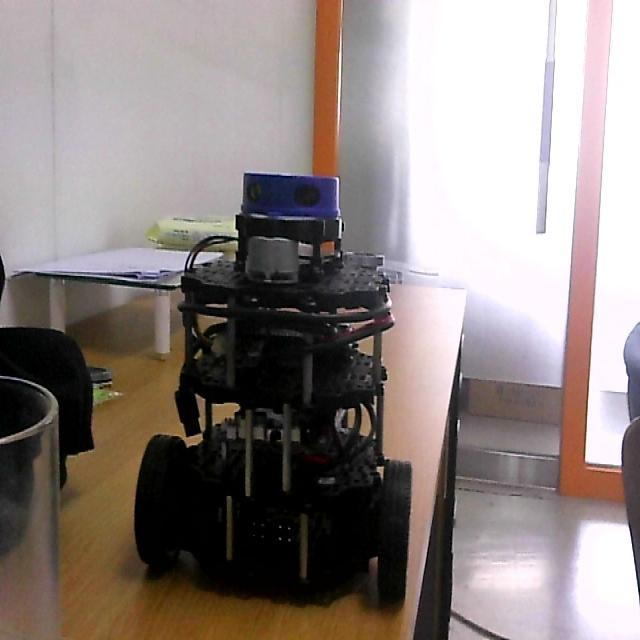turtle: (133, 170, 413, 616)
